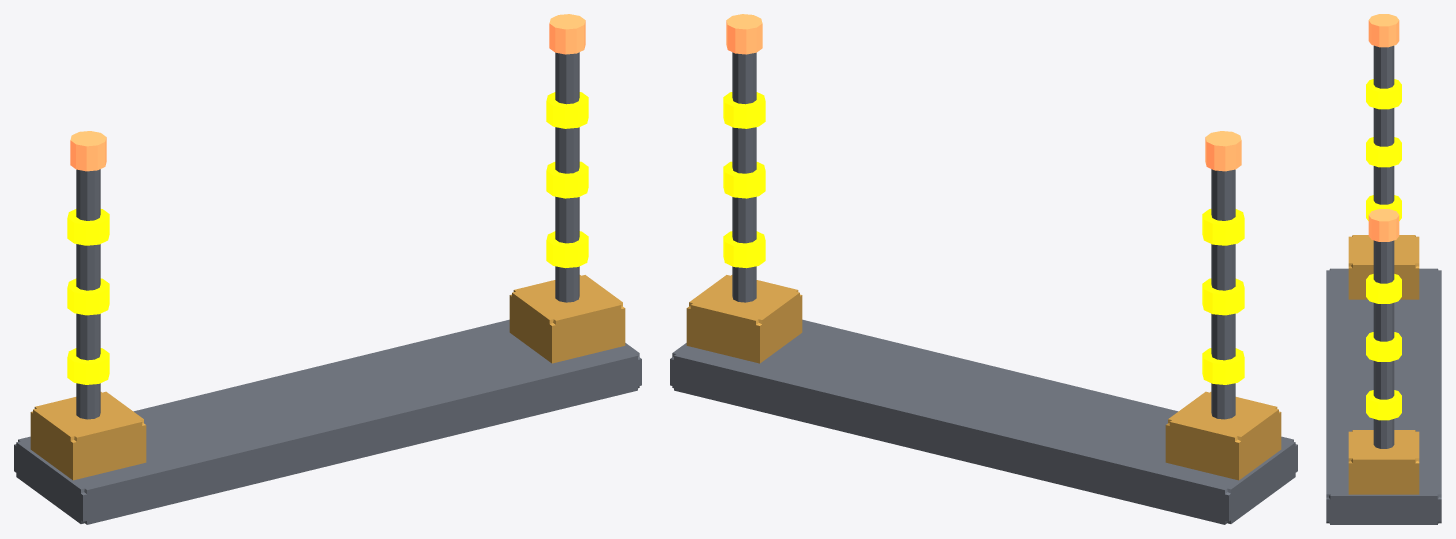
File: calibration_emitter.glb
3 renders of one model, left to right at view 1: azimuth 30°, elevation 25°; view 2: azimuth 150°, elevation 25°; view 3: azimuth 270°, elevation 25°, orthographic. The views are drawn at different scales.
Visible parts, largest first — view 1: Base_Plinth, Post_R_Base, Post_L_Base, Post_L_Mast, Post_R_Mast, Post_R_CapLight, Post_L_CapLight, Post_L_Coil_2, Post_R_Coil_2, Post_L_Coil_1, Post_R_Coil_3, Post_L_Coil_3 (+1 smaller); view 2: Base_Plinth, Post_R_Base, Post_L_Base, Post_L_Mast, Post_R_Mast, Post_R_CapLight, Post_L_CapLight, Post_L_Coil_2, Post_R_Coil_2, Post_L_Coil_1, Post_R_Coil_3, Post_L_Coil_3 (+1 smaller); view 3: Base_Plinth, Post_R_Base, Post_R_Mast, Post_L_Base, Post_L_Mast, Post_L_CapLight, Post_R_CapLight, Post_R_Coil_1, Post_L_Coil_2, Post_L_Coil_3, Post_R_Coil_2, Post_R_Coil_3 (+1 smaller).
Part boxes in pixels (box(x1,y1,x2,y2)): Base_Plinth: box(14, 319, 641, 524); Post_R_Base: box(509, 275, 625, 363); Post_L_Base: box(30, 391, 146, 480); Post_L_Mast: box(76, 169, 100, 419); Post_R_Mast: box(555, 52, 579, 302); Post_R_CapLight: box(549, 14, 585, 54); Post_L_CapLight: box(70, 131, 106, 171); Post_L_Coil_2: box(67, 278, 109, 315); Post_R_Coil_2: box(546, 161, 588, 198); Post_L_Coil_1: box(67, 348, 109, 384); Post_R_Coil_3: box(546, 92, 588, 128); Post_L_Coil_3: box(67, 209, 109, 245); Base_Plinth: box(670, 319, 1297, 524); Post_R_Base: box(686, 275, 802, 363); Post_L_Base: box(1165, 391, 1281, 480); Post_L_Mast: box(1211, 169, 1235, 419); Post_R_Mast: box(732, 52, 756, 302); Post_R_CapLight: box(726, 14, 762, 54); Post_L_CapLight: box(1205, 131, 1241, 171); Post_L_Coil_2: box(1202, 278, 1244, 315); Post_R_Coil_2: box(723, 161, 765, 198); Post_L_Coil_1: box(1202, 348, 1244, 384); Post_R_Coil_3: box(723, 92, 765, 128); Post_L_Coil_3: box(1202, 209, 1244, 245); Base_Plinth: box(1326, 268, 1441, 524); Post_R_Base: box(1348, 430, 1419, 494); Post_R_Mast: box(1373, 240, 1394, 448); Post_L_Base: box(1348, 235, 1419, 299); Post_L_Mast: box(1373, 45, 1394, 204); Post_L_CapLight: box(1368, 14, 1399, 47); Post_R_CapLight: box(1368, 209, 1399, 241); Post_R_Coil_1: box(1366, 390, 1401, 420); Post_L_Coil_2: box(1366, 137, 1401, 167); Post_L_Coil_3: box(1366, 79, 1401, 109); Post_R_Coil_2: box(1366, 332, 1401, 361); Post_R_Coil_3: box(1366, 274, 1401, 303).
Bounding box in the file's own units: 4.2 × 2.53 × 0.9.
